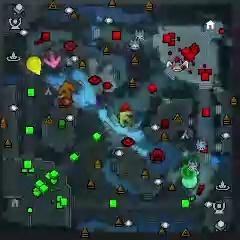Other: (181, 164, 196, 179)
p2: (181, 171, 199, 189)
p4: (26, 56, 43, 76)
x1: (44, 52, 61, 68)
x2: (119, 111, 133, 127)
x5: (58, 81, 76, 99)
